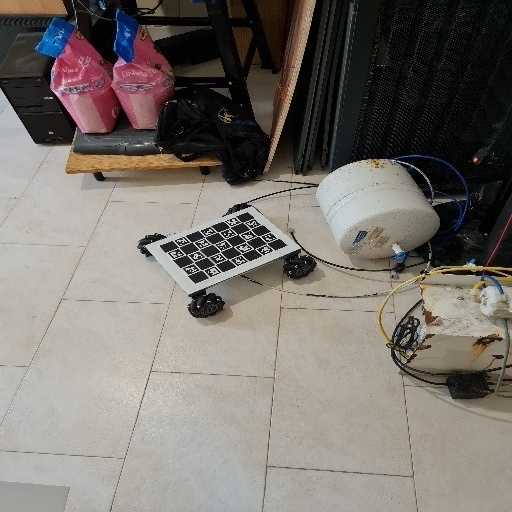Omniwheel: (137, 203, 318, 319)
